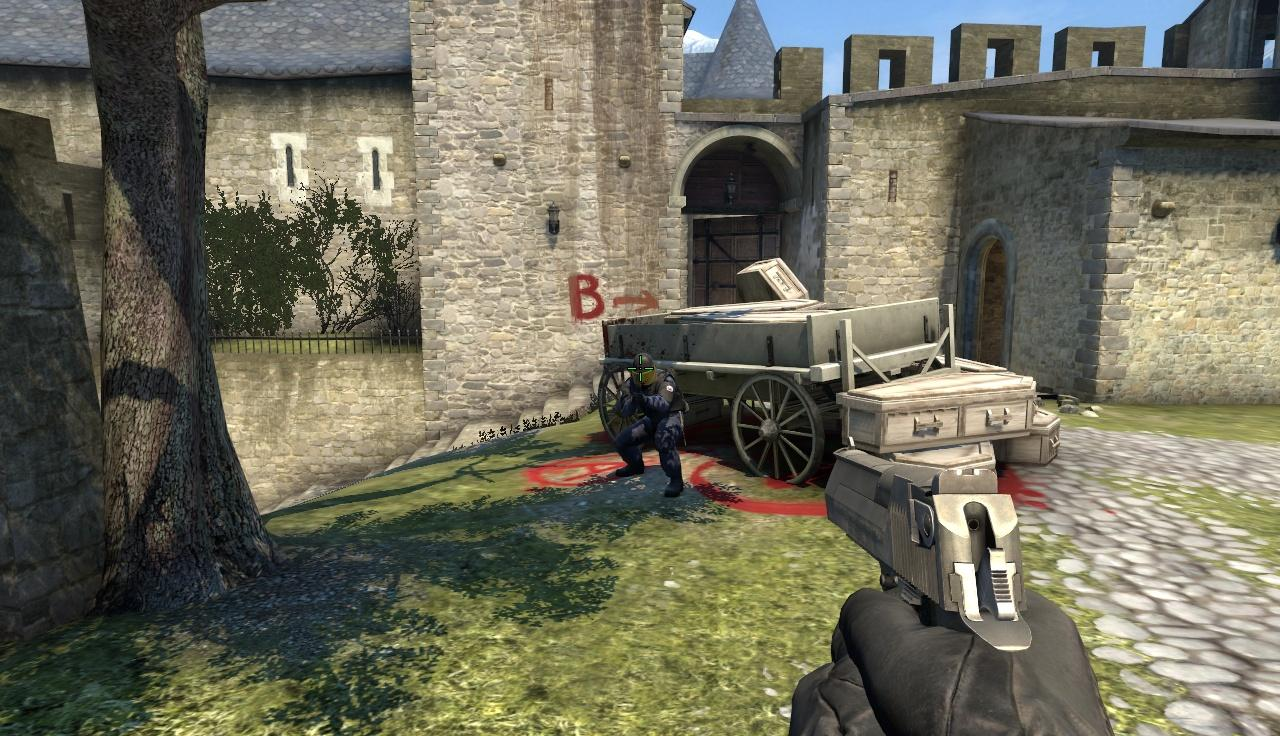ct: (624, 350, 687, 495)
cthead: (632, 354, 657, 384)
pistol: (816, 441, 1113, 733)
